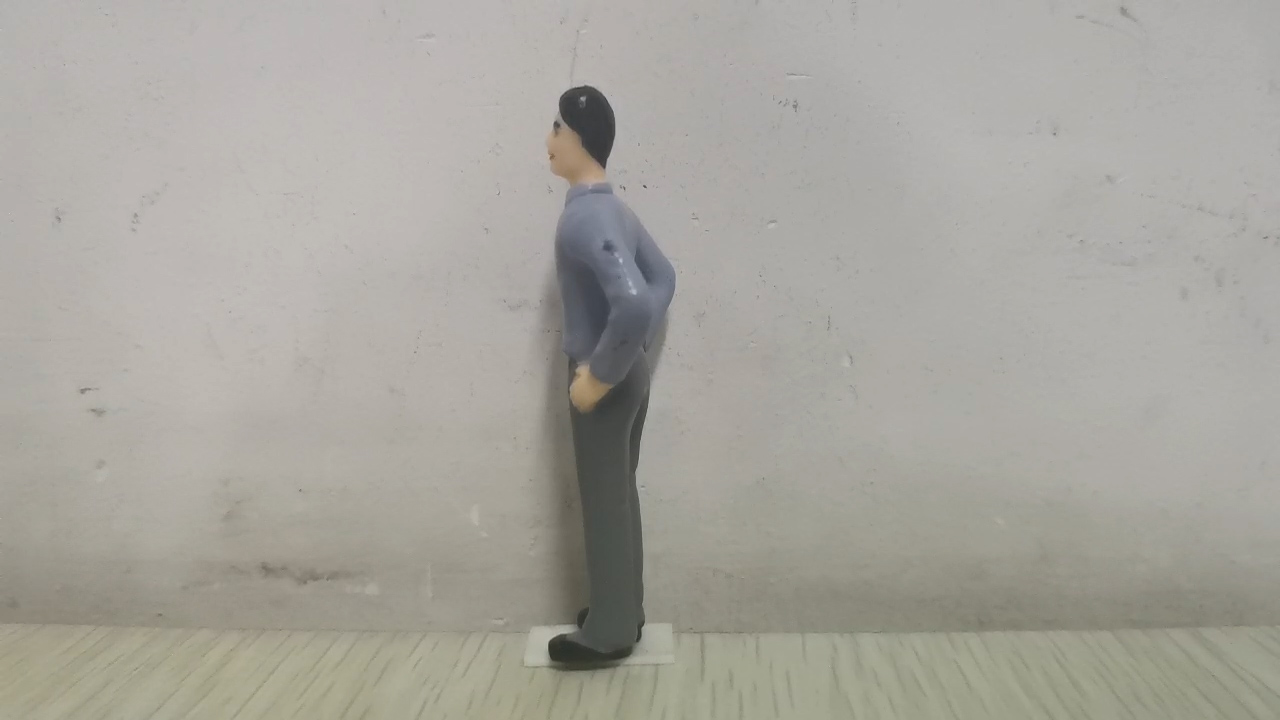person: (546, 86, 679, 665)
